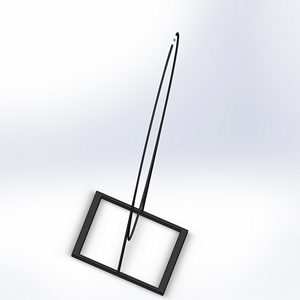circle: (69, 29, 190, 296)
